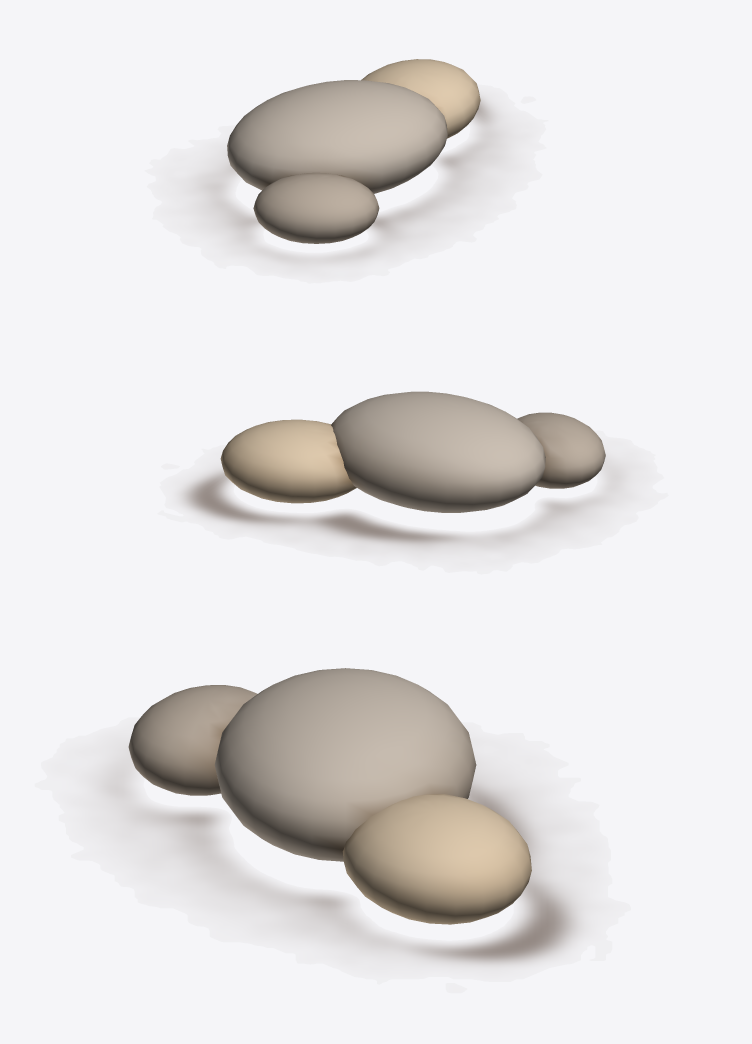
Rendered from prop_pebbles.glb.
The picture shows the model from 3 angles, top to bottom: view 1: azimuth 30°, elevation 25°; view 2: azimuth 150°, elevation 25°; view 3: azimuth 270°, elevation 25°; orthographic projection. The views are drawn at different scales.
Parts seen in each view (by area): view 1: p1, p3, baked_shadow, p2; view 2: p1, p2, baked_shadow, p3; view 3: p1, p2, baked_shadow, p3.
Boxes of the visible parts, left/top/right/bottom form: p1: left=227, top=80, right=447, bottom=193; p3: left=253, top=172, right=379, bottom=243; baked_shadow: left=202, top=99, right=494, bottom=258; p2: left=361, top=59, right=480, bottom=138; p1: left=331, top=391, right=545, bottom=512; p2: left=220, top=419, right=356, bottom=503; baked_shadow: left=183, top=470, right=615, bottom=547; p3: left=517, top=412, right=605, bottom=488; p1: left=214, top=668, right=476, bottom=861; p2: left=342, top=794, right=531, bottom=924; baked_shadow: left=108, top=774, right=576, bottom=963; p3: left=128, top=685, right=257, bottom=795.
Size of the model in its own units: 2.44 by 0.44 by 2.21.
Materials: 4 (1 with a texture image).
